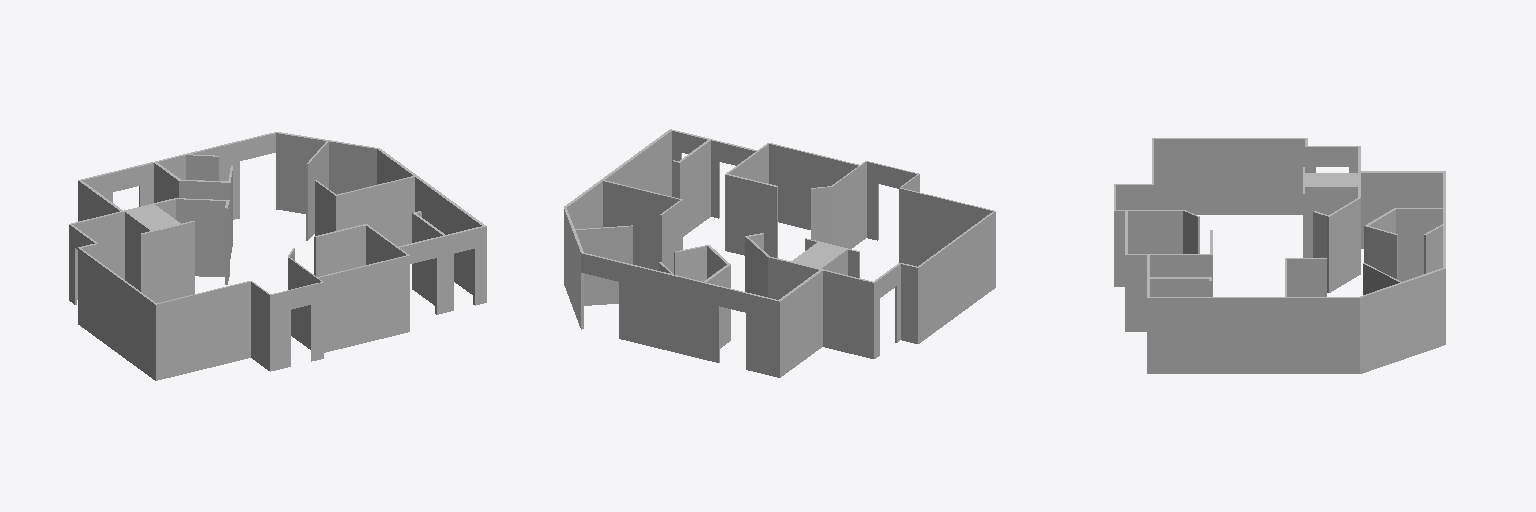
Rendered from walls.obj.
3 views of the same model, side by side, from view 1: azimuth 30°, elevation 25°; view 2: azimuth 150°, elevation 25°; view 3: azimuth 270°, elevation 25° (orthographic).
Visible parts, largest first — view 1: Cube; view 2: Cube; view 3: Cube.
Part boxes in pixels (left/top/right/bottom): Cube: left=69, top=132, right=486, bottom=380; Cube: left=564, top=129, right=995, bottom=377; Cube: left=1114, top=138, right=1445, bottom=373.
Size of the model in its own units: 28.71 by 6.38 by 25.14.